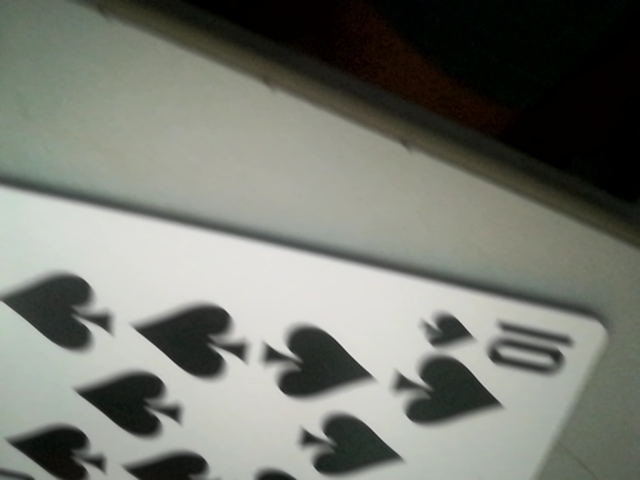ht 10: (411, 304, 609, 375)
